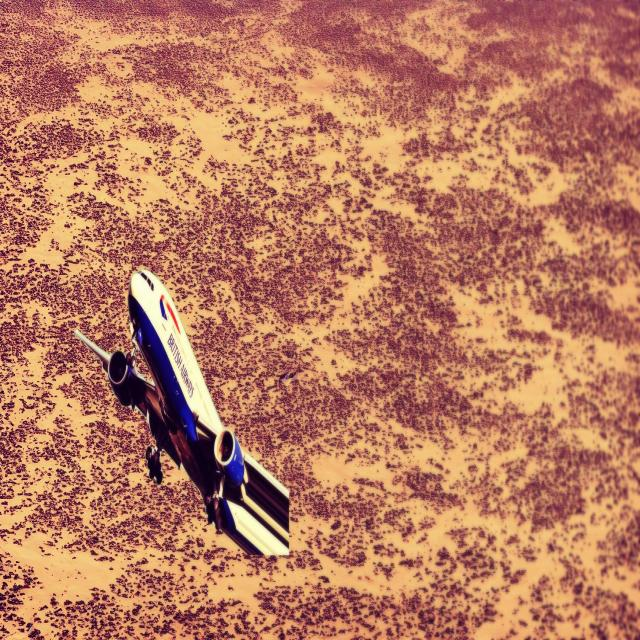airplane: (74, 266, 290, 558)
